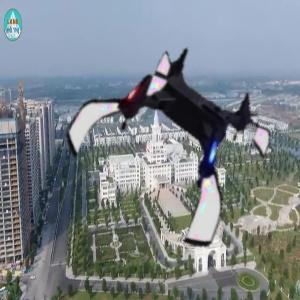drone: (66, 37, 271, 242)
